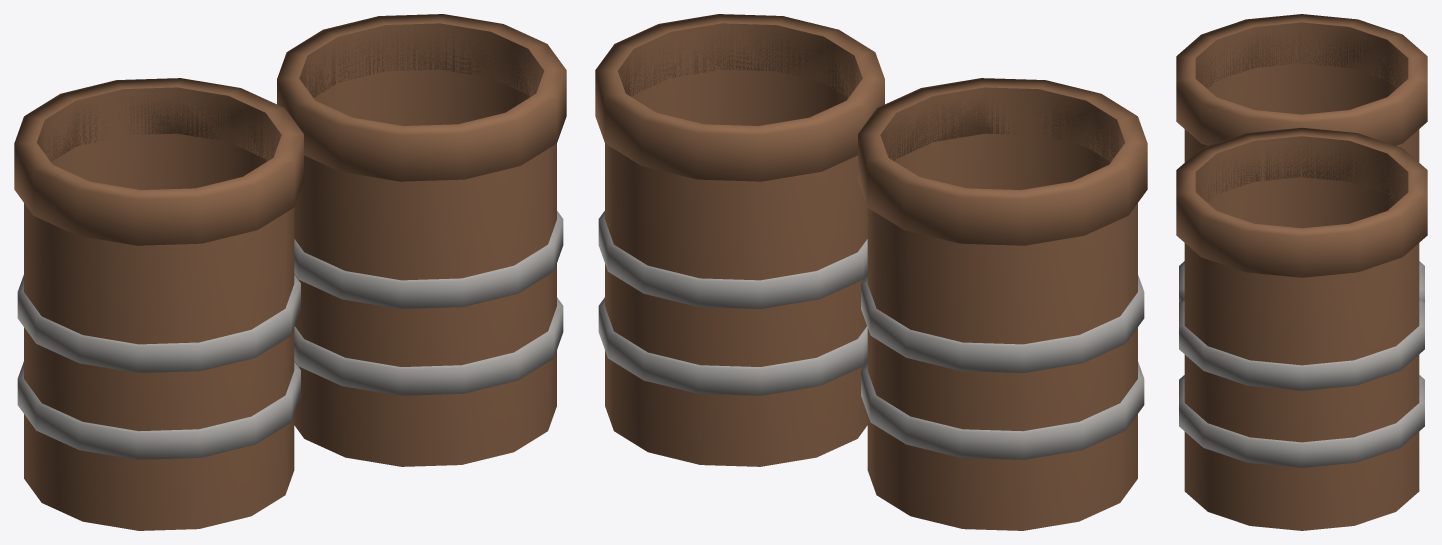
File: nordic_socks.glb
3 views of the same model, side by side, from view 1: azimuth 30°, elevation 25°; view 2: azimuth 150°, elevation 25°; view 3: azimuth 270°, elevation 25° (orthographic). The views are drawn at different scales.
Parts seen in each view (by area): view 1: nordic_socks_LegL, nordic_socks_LegR; view 2: nordic_socks_LegL, nordic_socks_LegR; view 3: nordic_socks_LegR, nordic_socks_LegL.
Boxes of the visible parts, x1=… form: nordic_socks_LegL: x1=14, y1=78, x2=303, y2=530; nordic_socks_LegR: x1=277, y1=14, x2=566, y2=466; nordic_socks_LegL: x1=858, y1=78, x2=1147, y2=530; nordic_socks_LegR: x1=595, y1=14, x2=884, y2=466; nordic_socks_LegR: x1=1176, y1=127, x2=1427, y2=530; nordic_socks_LegL: x1=1176, y1=14, x2=1427, y2=302.
Size of the model in its own units: 0.372 by 0.232 by 0.1774.
